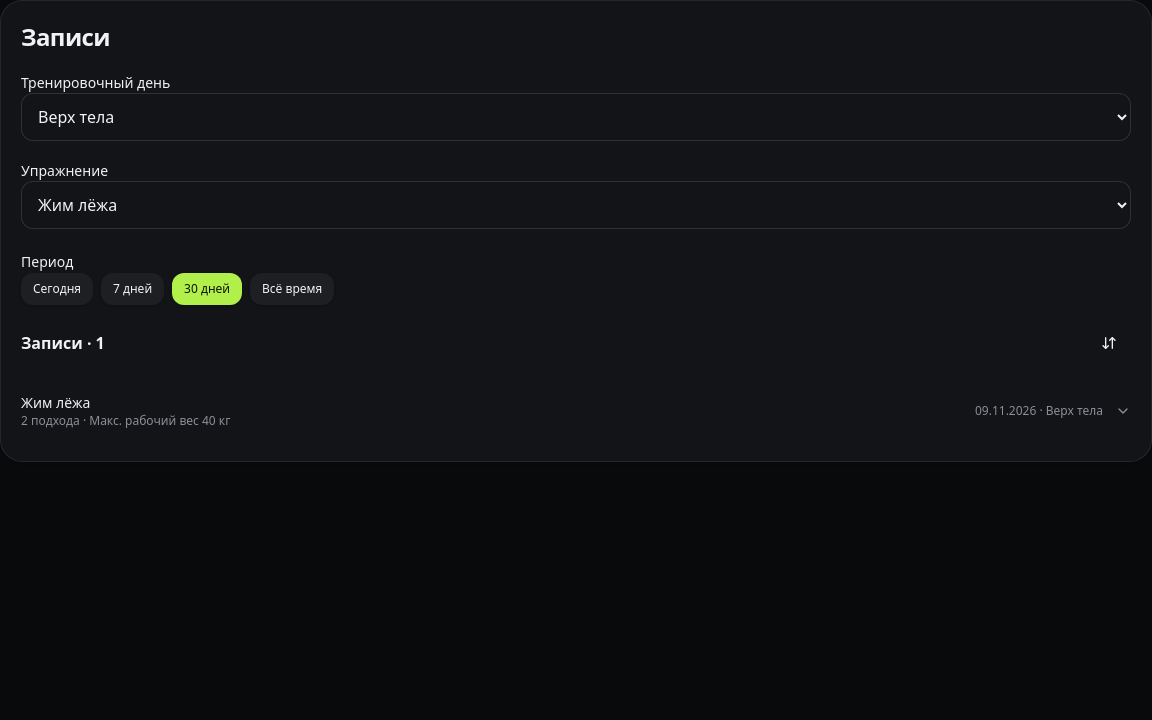
it: renders independent set weights, reps, RIR, and warm-up type from set history
Click the button that starts with "Жим лёжа".
click(56, 402)  # box [21, 385, 1131, 437]
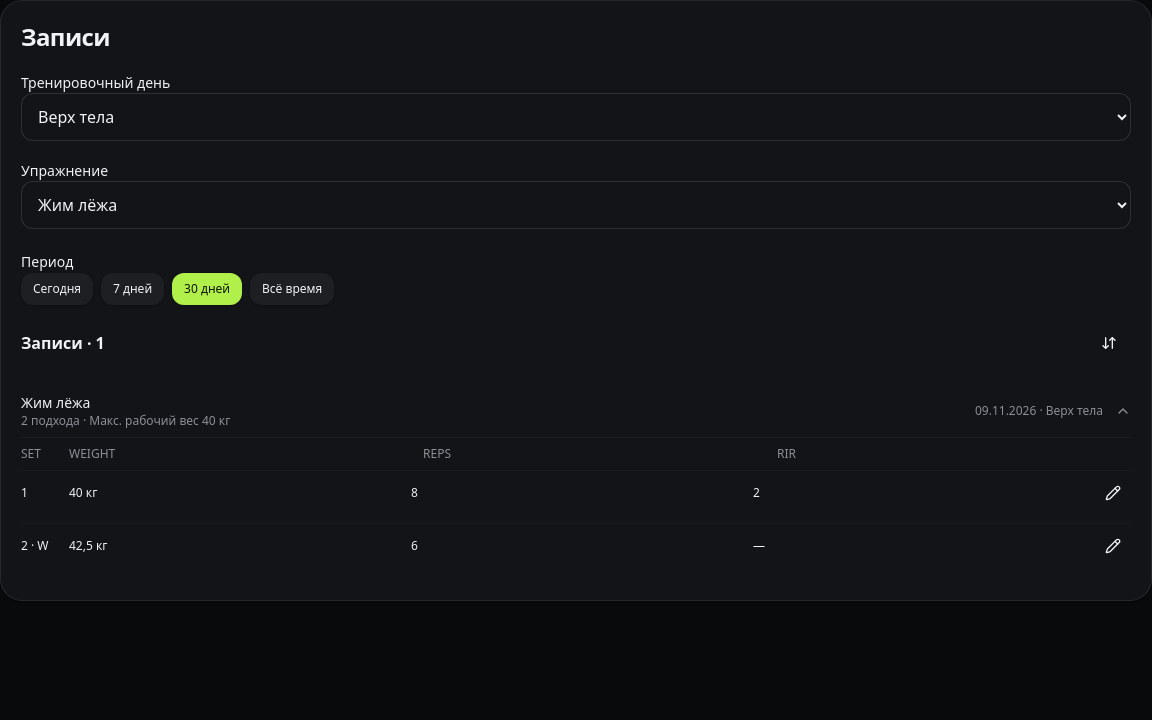
Check: the list item shows "2", box [753, 484, 760, 501]
Check: the list item shows "42,5 кг", box [21, 381, 1131, 580]
Check: the list item shows "W", box [28, 537, 48, 554]
